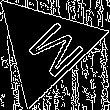M_SW: (12, 13, 80, 81)
